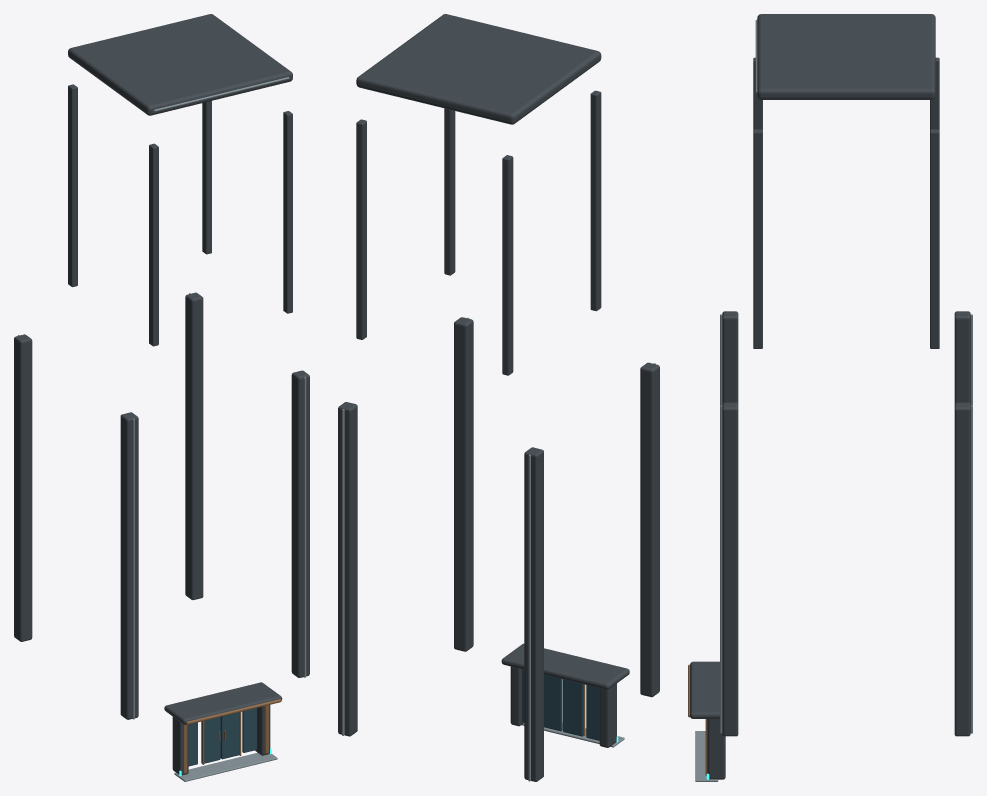
File: technocore-entry.glb
3 renders of one model, left to right at view 1: azimuth 30°, elevation 25°; view 2: azimuth 150°, elevation 25°; view 3: azimuth 270°, elevation 25°, orthographic. The views are drawn at different scales.
Visible parts, largest first — view 1: Beveled graphite concrete, Brushed titanium, Blue steel glazing, Satin bronze; view 2: Beveled graphite concrete, Blue steel glazing, Brushed titanium; view 3: Beveled graphite concrete, Brushed titanium.
Boxes of the visible parts, <box> form: Beveled graphite concrete: <box>14,14,309,775</box>; Brushed titanium: <box>18,77,306,781</box>; Blue steel glazing: <box>188,708,256,766</box>; Satin bronze: <box>183,699,281,773</box>; Beveled graphite concrete: <box>338,14,659,781</box>; Blue steel glazing: <box>522,669,599,740</box>; Brushed titanium: <box>342,317,655,781</box>; Beveled graphite concrete: <box>690,14,970,779</box>; Brushed titanium: <box>695,19,972,781</box>.
Size of the model in its own units: 7.33 by 25.03 by 9.03.
